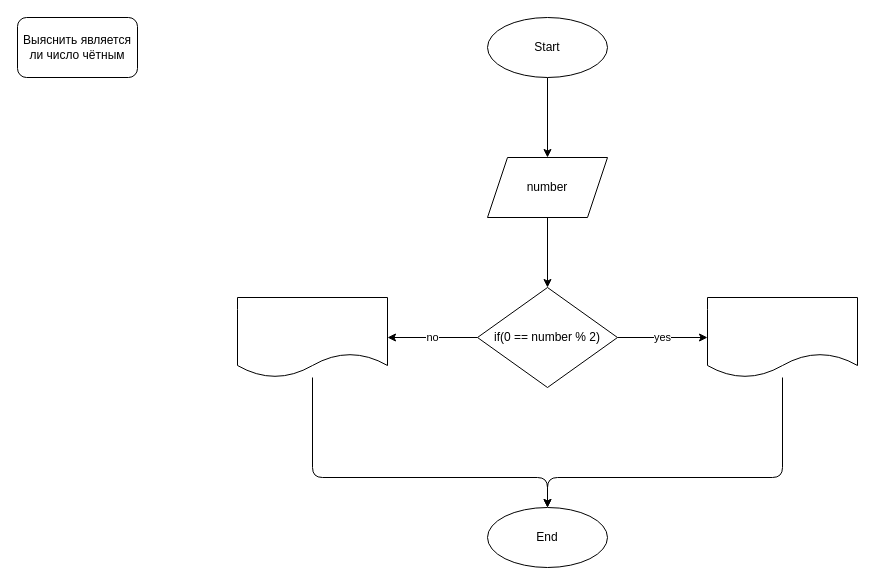
Some shapes in this 875 by 585 pixel diagram are drawn without their labels. Each missing label, with the centre of its shape:
Print this number even: the point at 782,337
Print this number not even: the point at 312,337
